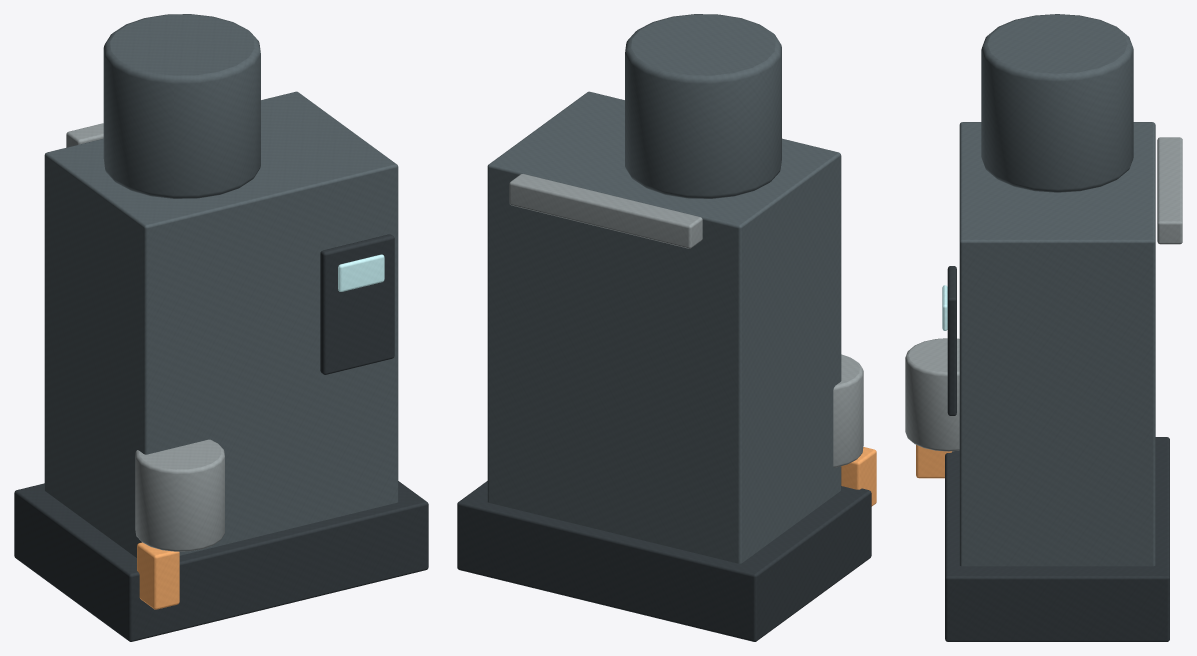
File: PortableDeconUnit.glb
3 views of the same model, side by side, from view 1: azimuth 30°, elevation 25°; view 2: azimuth 150°, elevation 25°; view 3: azimuth 270°, elevation 25° (orthographic). The views are drawn at different scales.
Visible parts, largest first — view 1: PortableDeconUnit_Mesh; view 2: PortableDeconUnit_Mesh; view 3: PortableDeconUnit_Mesh.
Part boxes in pixels (left/top/right/bottom): PortableDeconUnit_Mesh: left=14, top=14, right=428, bottom=641; PortableDeconUnit_Mesh: left=457, top=14, right=876, bottom=641; PortableDeconUnit_Mesh: left=905, top=14, right=1182, bottom=641.
Bounding box in the file's own units: 0.92 × 1.55 × 0.765.
Materials: 5 (5 with a texture image).
